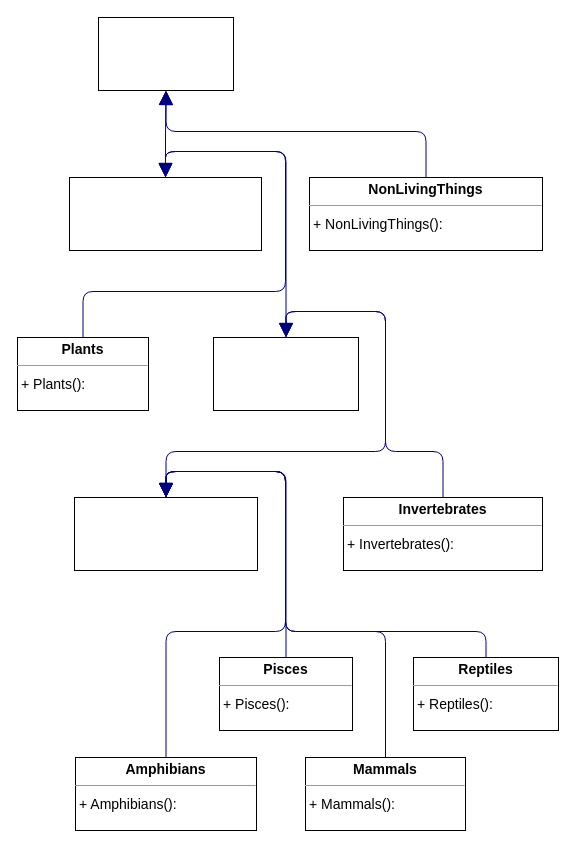
The diagram is 576 pixels wide and 848 high, and some of its shapes have lost their labels. The centre of each missing label's shape, as x and y in pixels:
"Animals + Animals():" belongs at pixel 285 373.
"LivingThings + LivingThings():" belongs at pixel 165 213.
"Things + Things():" belongs at pixel 166 53.
"Vertebrates + Vertebrates():" belongs at pixel 166 533.
